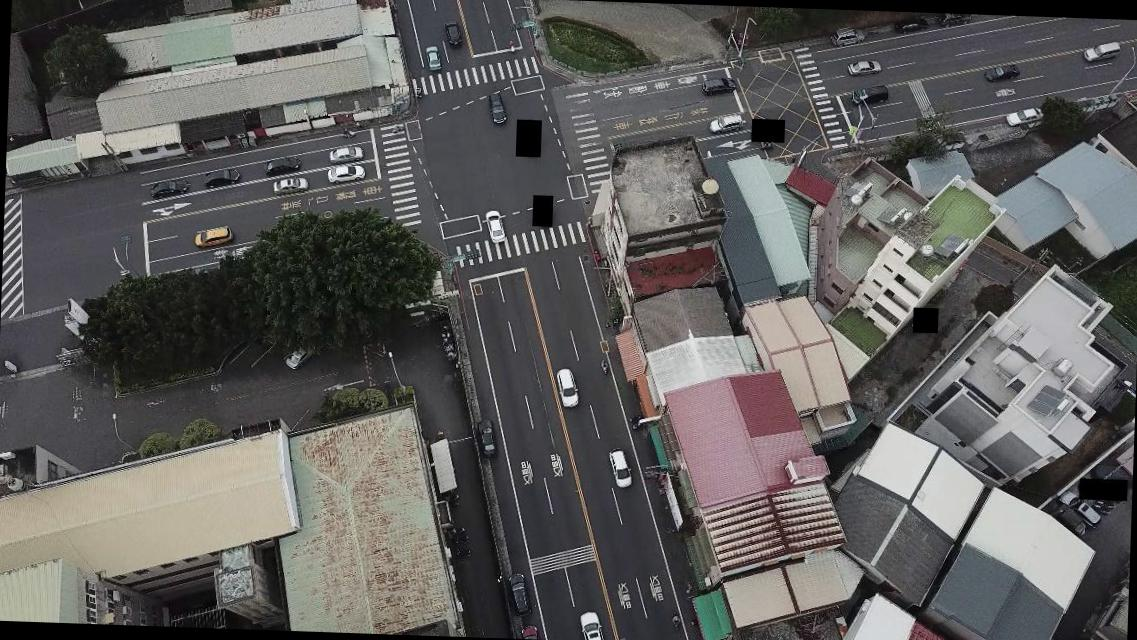vehicle: (1058, 488, 1102, 526), (1045, 504, 1090, 536), (504, 573, 532, 618), (609, 448, 634, 488), (193, 225, 233, 250), (555, 368, 579, 408), (576, 609, 608, 639), (282, 341, 314, 371), (1004, 105, 1045, 128), (1081, 40, 1121, 63), (476, 419, 500, 457), (482, 209, 508, 244), (149, 176, 189, 198), (326, 162, 366, 184), (263, 154, 301, 176), (982, 62, 1020, 84), (203, 166, 240, 188), (850, 84, 888, 105), (272, 174, 308, 196), (487, 92, 509, 128), (830, 25, 866, 47), (708, 113, 744, 134), (892, 16, 929, 36), (701, 76, 737, 95), (328, 144, 365, 162), (846, 58, 882, 76), (444, 20, 462, 48), (424, 46, 442, 72)
